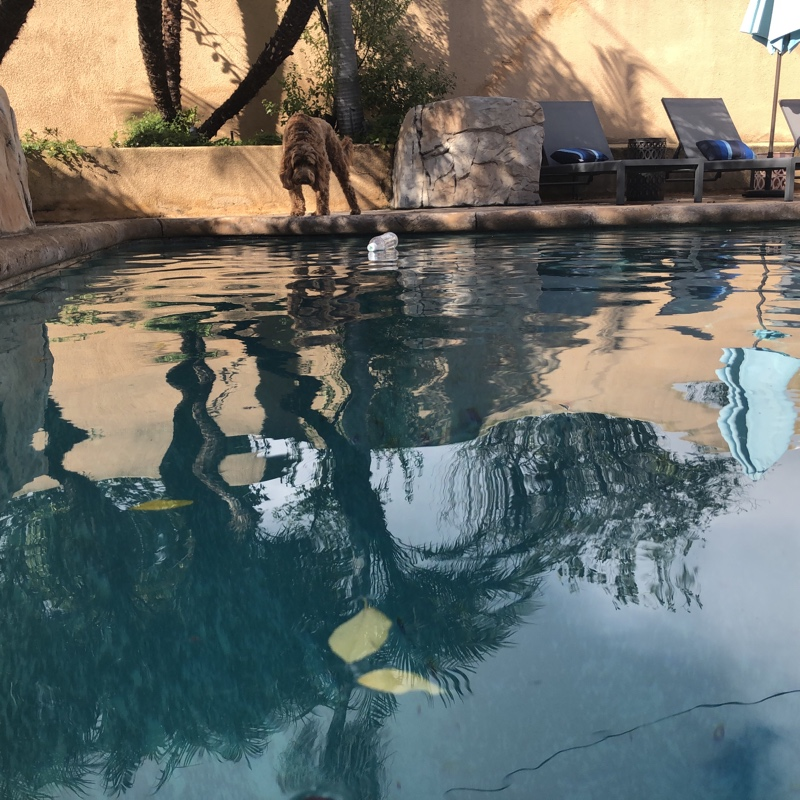Plastic Bottle: (366, 233, 400, 254)
